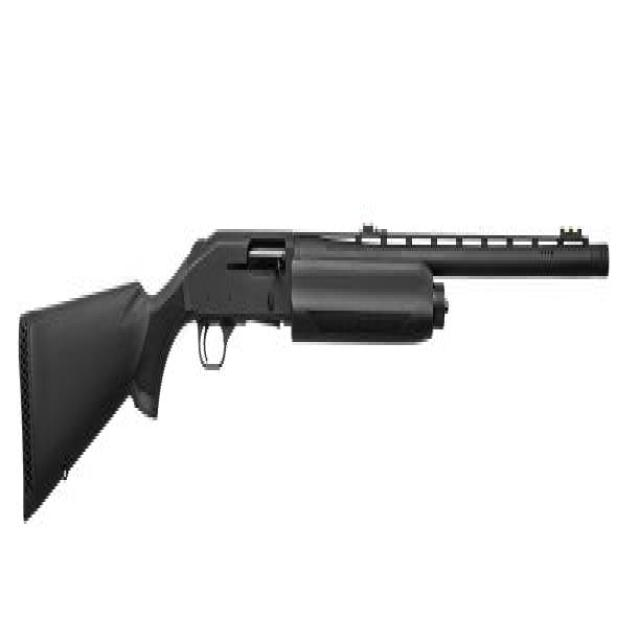rifle: (19, 206, 613, 543)
